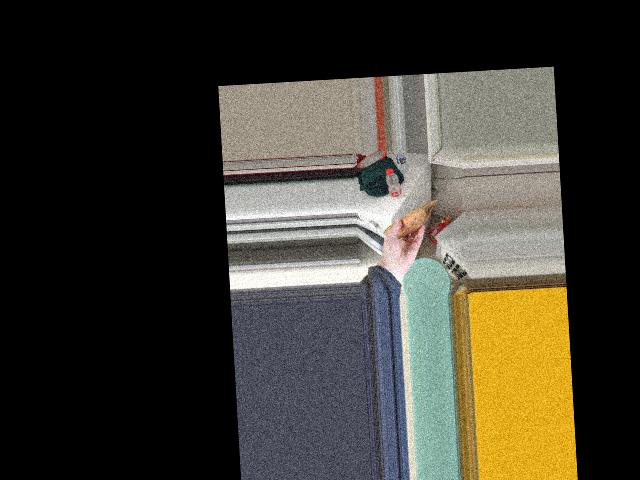sweet_potato: (390, 209, 425, 237)
